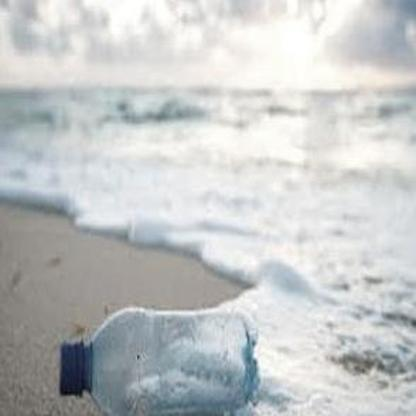plastic bottle: (58, 306, 260, 413)
